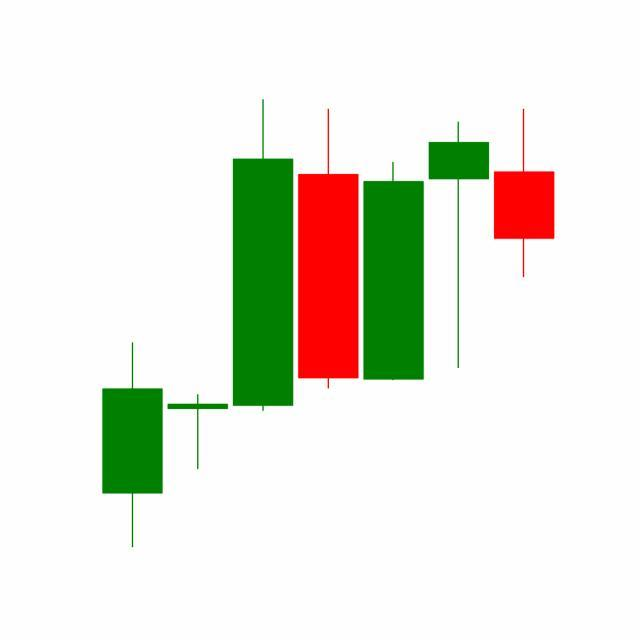Upside-Downside Gap Three Methods: (360, 107, 556, 385)
